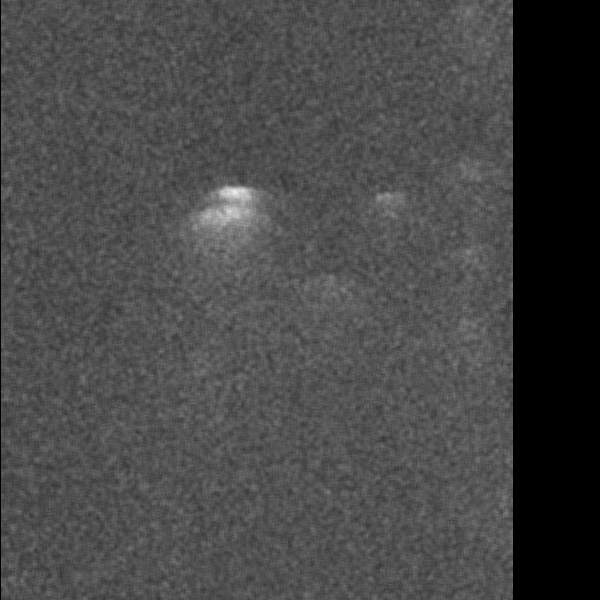spark: (262, 398, 350, 505), (229, 268, 299, 358)
